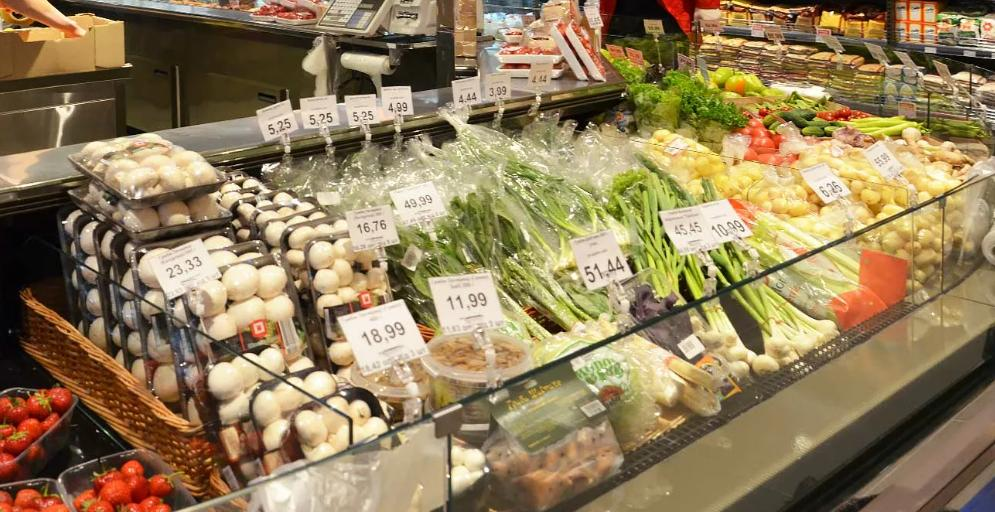cucumber: (762, 112, 848, 138)
sweet pepper: (706, 69, 782, 96)
tomato: (735, 126, 797, 164), (818, 106, 872, 122)
